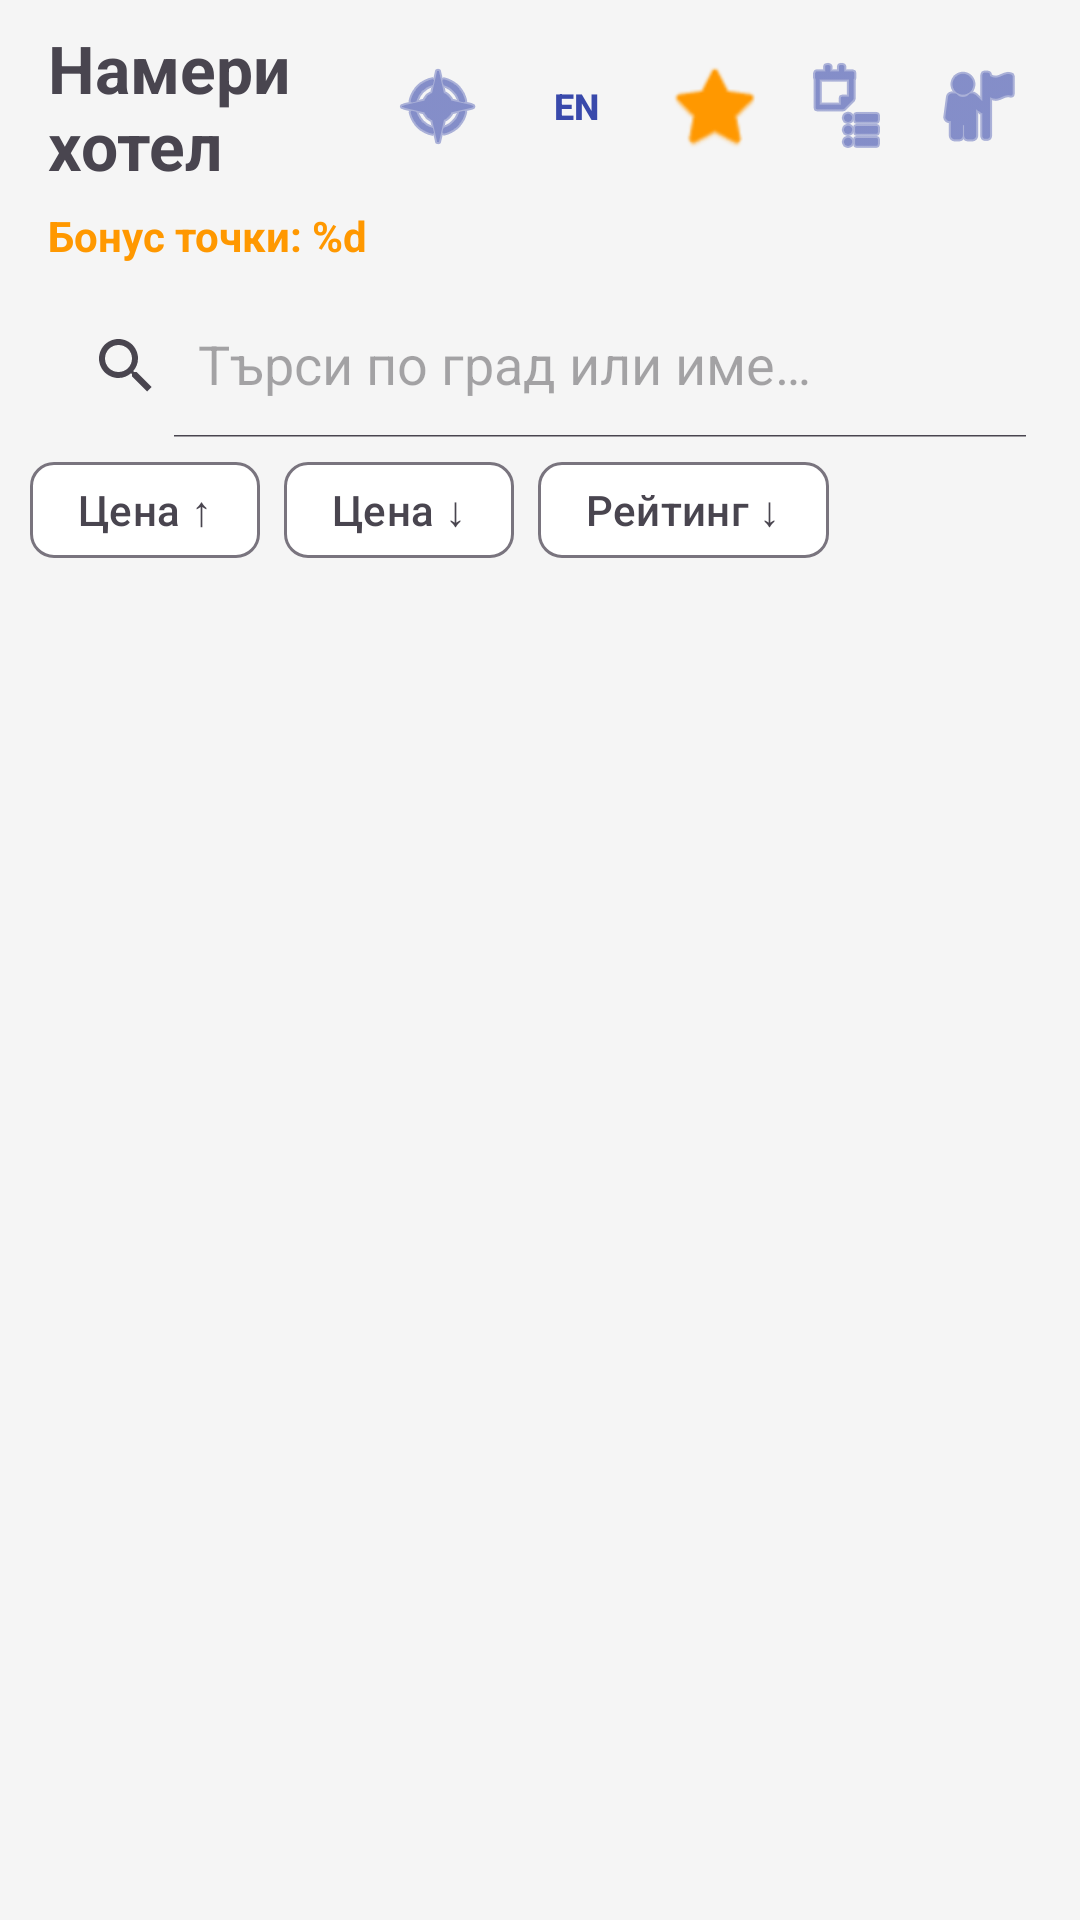

Point at icon controls on the screen. Image size 1080x1920, points as (x,y).
История на резервации: (846,105)
Любими: (715,107)
Профил: (979,106)
